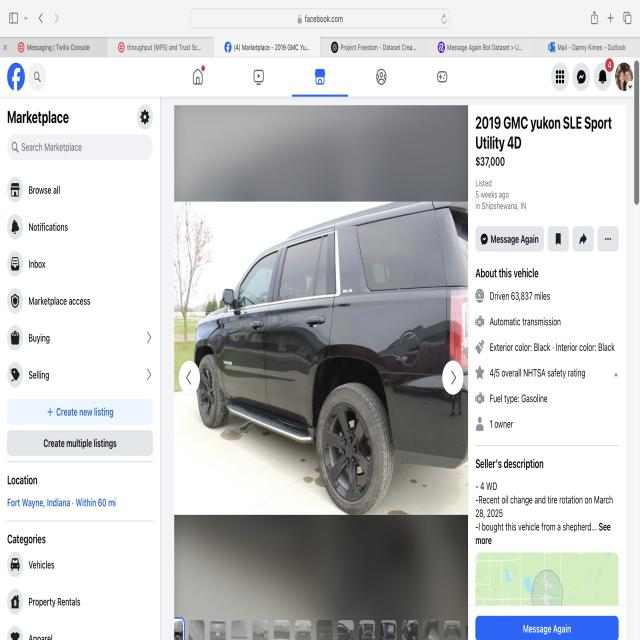message_button: (476, 616, 616, 639)
